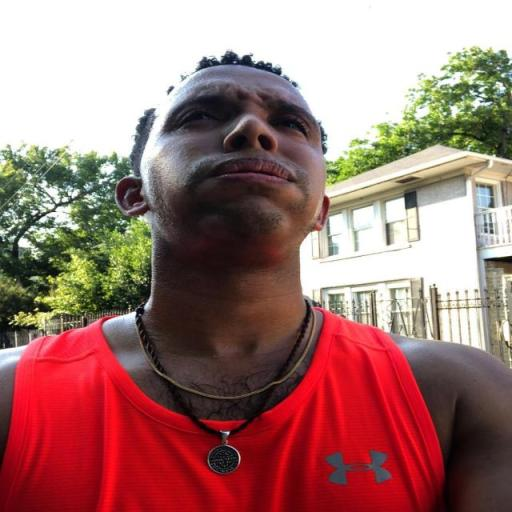Under Armour: (322, 446, 394, 488)
